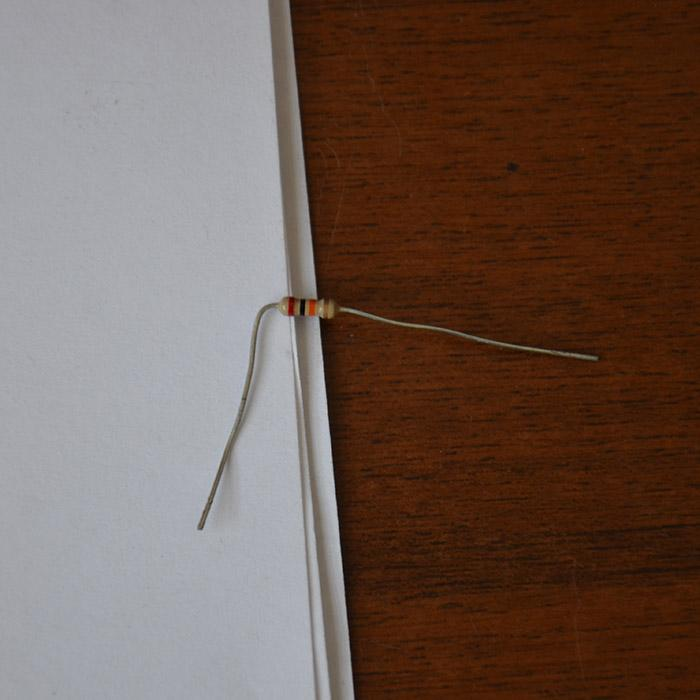resistor: (277, 295, 338, 318)
